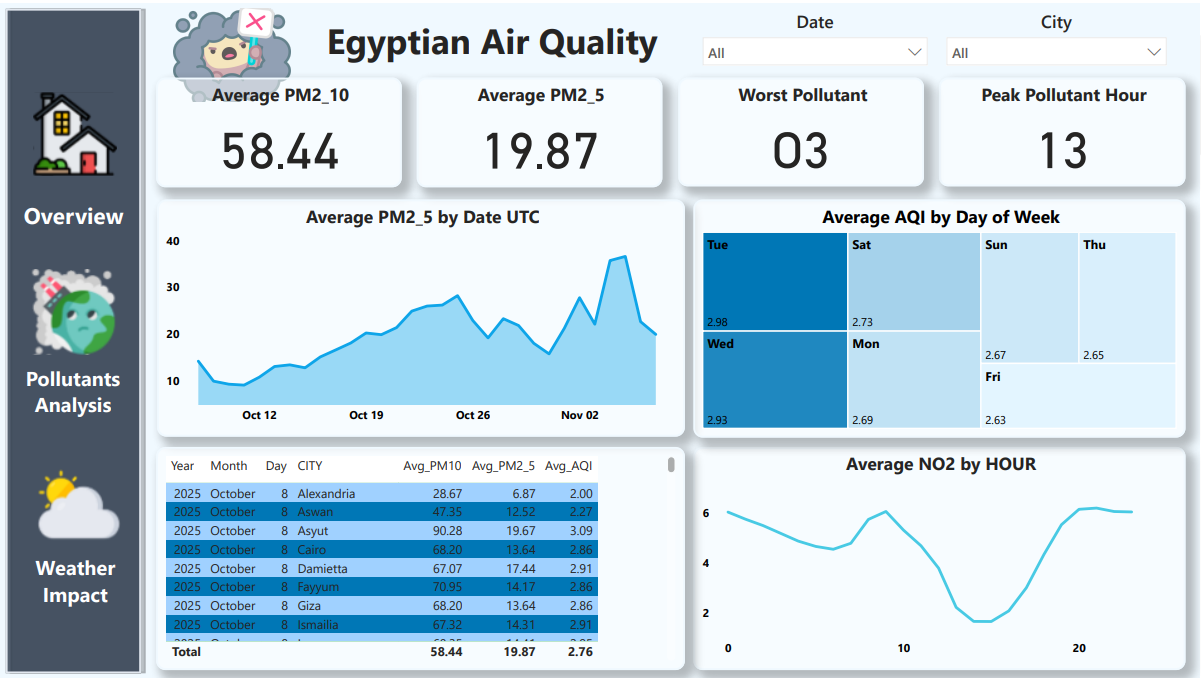

What the dashboard file says about the page in this screenshot:
{"tool":"powerbi","page":{"name":"Pollutants Analysis","canvas":[1280,720],"ordinal":2},"visuals":[{"type":"image","box":[180,0,133.8,110],"z":0},{"type":"shape","box":[0,0,155.4,719.6],"z":1000},{"type":"actionButton","box":[23.2,64.3,108.9,132.1],"z":2000},{"type":"actionButton","box":[26.8,489.3,103.6,92.9],"z":3000},{"type":"textbox","box":[19.6,203.6,117.9,53.6],"z":4000},{"type":"textbox","box":[21.4,582.1,117.9,73.2],"z":5000},{"type":"actionButton","box":[21.4,283.9,114.3,96.4],"z":6000},{"type":"card","title":"Average PM2_10","fields":{"Values":["Measures .Avg_PM10"]},"box":[166.2,78.8,262,117.5],"z":7000},{"type":"card","title":"Average PM2_5","fields":{"Values":["Measures .Avg_PM2_5"]},"box":[444.4,79,262,116.7],"z":8000},{"type":"card","title":"Peak Pollutant Hour","fields":{"Values":["Measures .Peak_Pollution_Hour"]},"box":[1001.2,78.8,262.5,116.2],"z":9000},{"type":"card","title":"Worst Pollutant","fields":{"Values":["Measures .Worst_Pollutant"]},"box":[722.6,78.8,262.5,116.2],"z":10000},{"type":"textbox","box":[18.8,380,117.5,72.5],"z":11000},{"type":"areaChart","title":"Average PM2_5 by Date UTC","fields":{"Y":["Measures .Avg_PM2_5"],"Category":["DIM_DATE.DATE_UTC.Variation.Date Hierarchy.Year","DIM_DATE.DATE_UTC.Variation.Date Hierarchy.Quarter","DIM_DATE.DATE_UTC.Variation.Date Hierarchy.Month","DIM_DATE.DATE_UTC.Variation.Date Hierarchy.Day"]},"box":[166.7,208.9,563.3,253.3],"z":12000},{"type":"lineChart","title":"Average NO2 by HOUR","fields":{"Y":["Measures .Avg_NO2"],"Category":["FACT_AIR_QUALITY.HOUR"]},"box":[738.8,472.5,525,238.8],"z":13000},{"type":"tableEx","fields":{"Values":["DIM_DATE.DATE_UTC.Variation.Date Hierarchy.Year","DIM_DATE.DATE_UTC.Variation.Date Hierarchy.Month","DIM_DATE.DATE_UTC.Variation.Date Hierarchy.Day","DIM_LOCATION.CITY","Measures .Avg_PM10","Measures .Avg_PM2_5","Measures .Avg_AQI"]},"box":[166.2,472.5,563.8,238.8],"z":14000},{"type":"treemap","title":"Average AQI by Day of Week","fields":{"Values":["Measures .Avg_AQI"],"Group":["FACT_AIR_QUALITY.DAY_OF_WEEK"]},"box":[738.8,208.8,525,253.8],"z":15000},{"type":"textbox","box":[342.5,8.8,407.5,63.8],"z":16000},{"type":"slicer","title":"City","fields":{"Values":["DIM_LOCATION.CITY"]},"box":[998.8,6.2,255,70],"z":17000},{"type":"slicer","title":"Date","fields":{"Values":["DIM_DATE.DATE_UTC.Variation.Date Hierarchy.Year","DIM_DATE.DATE_UTC.Variation.Date Hierarchy.Quarter","DIM_DATE.DATE_UTC.Variation.Date Hierarchy.Month","DIM_DATE.DATE_UTC.Variation.Date Hierarchy.Day"]},"box":[738.8,6.2,260,70],"z":18000}]}

Visuals, with their boxes in screenshot pixels (x1, y1, x2, y2), scaled from the page's 1280x720 canvas onto the 1201x678 screenshot:
image: [x1=169, y1=0, x2=294, y2=104]
shape: [x1=0, y1=0, x2=146, y2=677]
actionButton: [x1=22, y1=61, x2=124, y2=185]
actionButton: [x1=25, y1=461, x2=122, y2=548]
textbox: [x1=18, y1=192, x2=129, y2=242]
textbox: [x1=20, y1=548, x2=131, y2=617]
actionButton: [x1=20, y1=267, x2=127, y2=358]
"Average PM2_10" card: [x1=156, y1=74, x2=402, y2=185]
"Average PM2_5" card: [x1=417, y1=74, x2=663, y2=184]
"Peak Pollutant Hour" card: [x1=939, y1=74, x2=1186, y2=184]
"Worst Pollutant" card: [x1=678, y1=74, x2=924, y2=184]
textbox: [x1=18, y1=358, x2=128, y2=426]
"Average PM2_5 by Date UTC" areaChart: [x1=156, y1=197, x2=685, y2=435]
"Average NO2 by HOUR" lineChart: [x1=693, y1=445, x2=1186, y2=670]
tableEx - DIM_DATE.DATE_UTC.Variation.Date Hierarchy.Year x DIM_DATE.DATE_UTC.Variation.Date Hierarchy.Month: [x1=156, y1=445, x2=685, y2=670]
"Average AQI by Day of Week" treemap: [x1=693, y1=197, x2=1186, y2=436]
textbox: [x1=321, y1=8, x2=704, y2=68]
"City" slicer: [x1=937, y1=6, x2=1176, y2=72]
"Date" slicer: [x1=693, y1=6, x2=937, y2=72]
